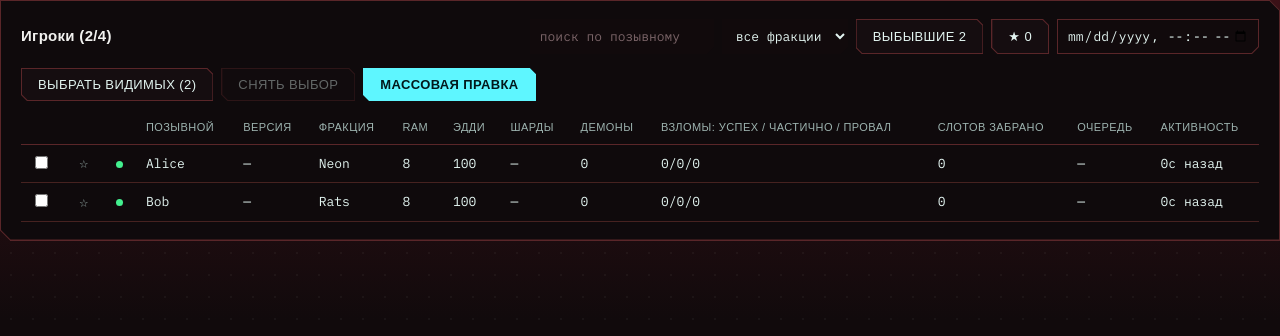
Scenario: PlayersScreen › поиск по позывному и фильтр фракции сужают список
Expected: the text "Alice" is shown, [136, 144, 233, 182]
Type "bo" into the field with placeholder "поиск по позывному".
click(622, 36); type("bo")  # box [530, 19, 714, 54]
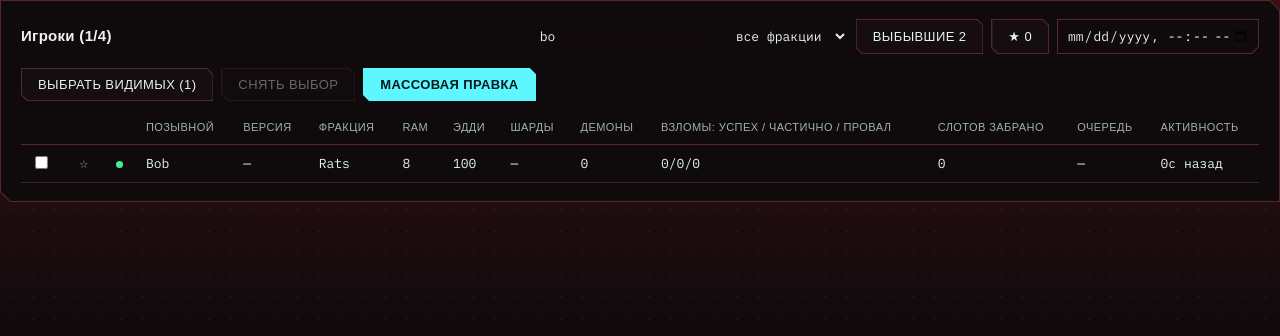
Expected: the text "Bob" is shown, [136, 144, 233, 182]
Now the text "Alice" is gone
Now the heading "Игроки (1/4)" is shown, box [21, 25, 112, 48]
